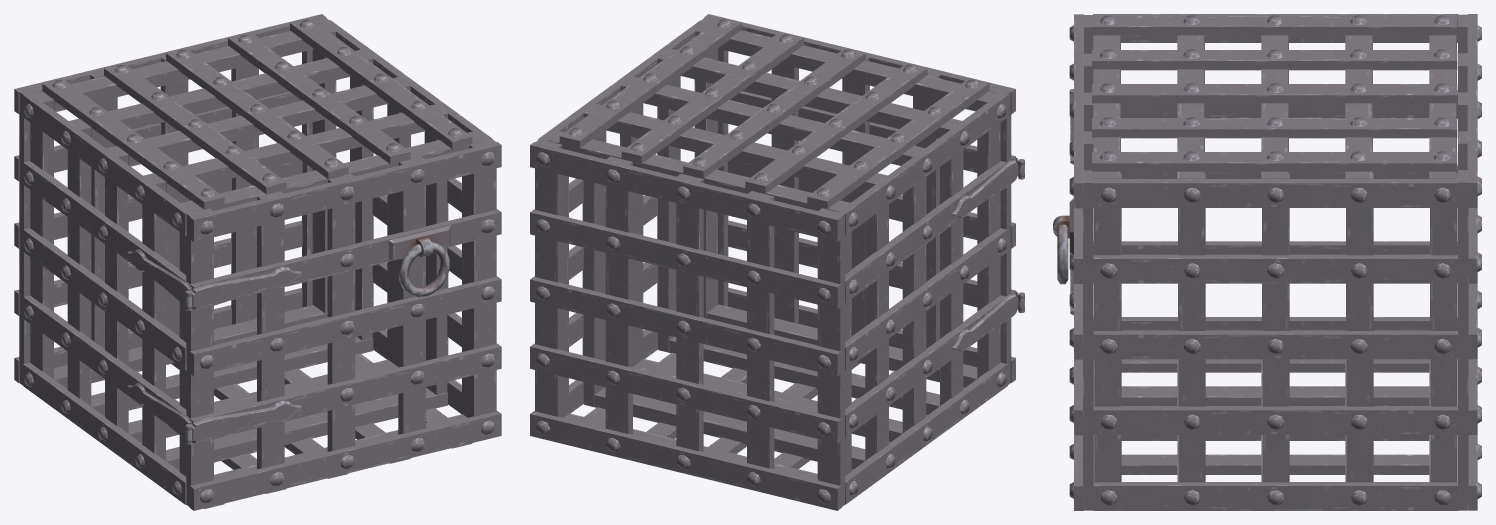
File: Cage_Small.gltf
3 renders of one model, left to right at view 1: azimuth 30°, elevation 25°; view 2: azimuth 150°, elevation 25°; view 3: azimuth 270°, elevation 25°, orthographic. The views are drawn at different scales.
Visible parts, largest first — view 1: Cage_Small; view 2: Cage_Small; view 3: Cage_Small.
Part boxes in pixels (x1=…): Cage_Small: x1=14, y1=14, x2=501, y2=510; Cage_Small: x1=530, y1=14, x2=1024, y2=510; Cage_Small: x1=1053, y1=14, x2=1481, y2=510.
Size of the model in its own units: 0.8549 by 0.8052 by 0.8843.
1 material, 1 textured.
